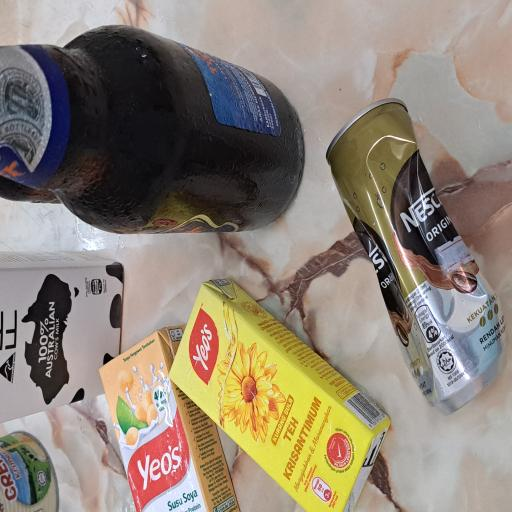can: (76, 434, 309, 512), (0, 0, 65, 80)
drink carton: (0, 225, 177, 512), (0, 133, 138, 319), (64, 0, 197, 167)
glass bottle: (209, 0, 367, 407)
